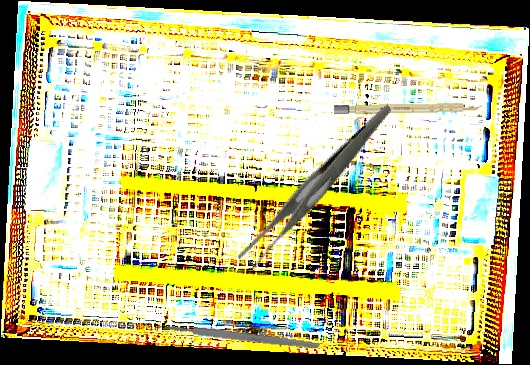Dressing Forceps: (208, 104, 427, 274)
Scalpel Handle: (165, 322, 321, 351), (333, 102, 483, 115)
